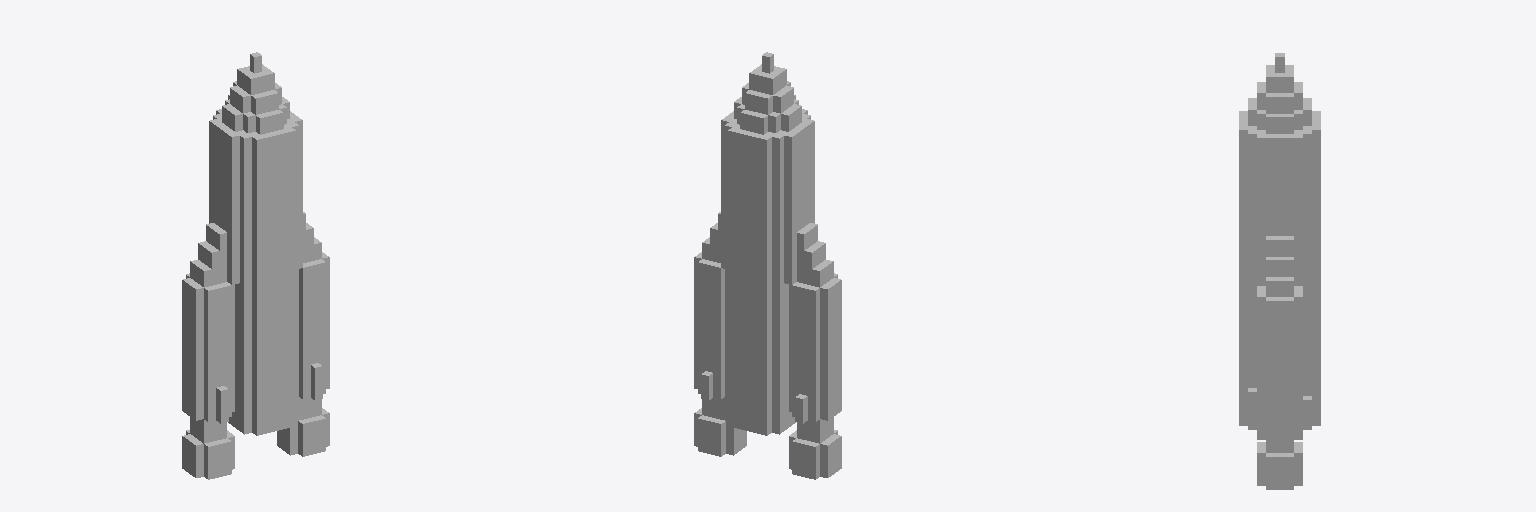
File: rocket.obj
3 views of the same model, side by side, from view 1: azimuth 30°, elevation 25°; view 2: azimuth 150°, elevation 25°; view 3: azimuth 270°, elevation 25° (orthographic).
Visible parts, largest first — view 1: object 1; view 2: object 1; view 3: object 1.
Part boxes in pixels (x1,y1,x2,y2): object 1: (182, 52, 329, 479); object 1: (694, 52, 841, 479); object 1: (1239, 53, 1320, 489).
Bounding box in the file's own units: 1.7 × 4.9 × 0.9.